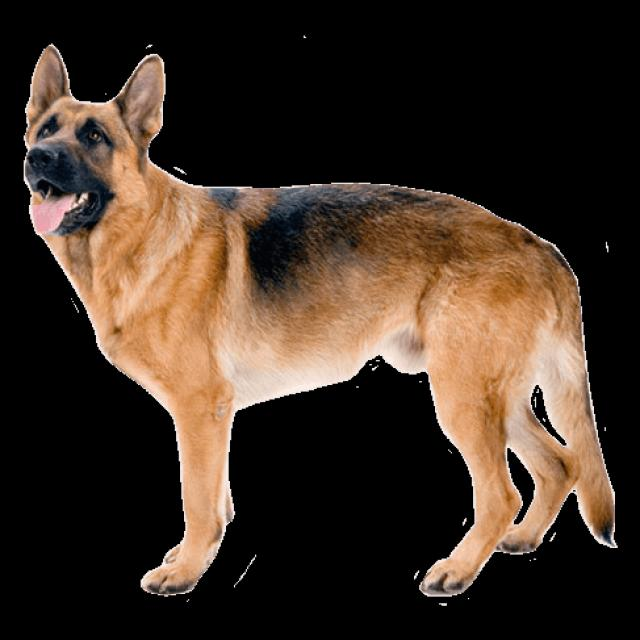GERMAN_SHEPHERD: (0, 36, 640, 621)
